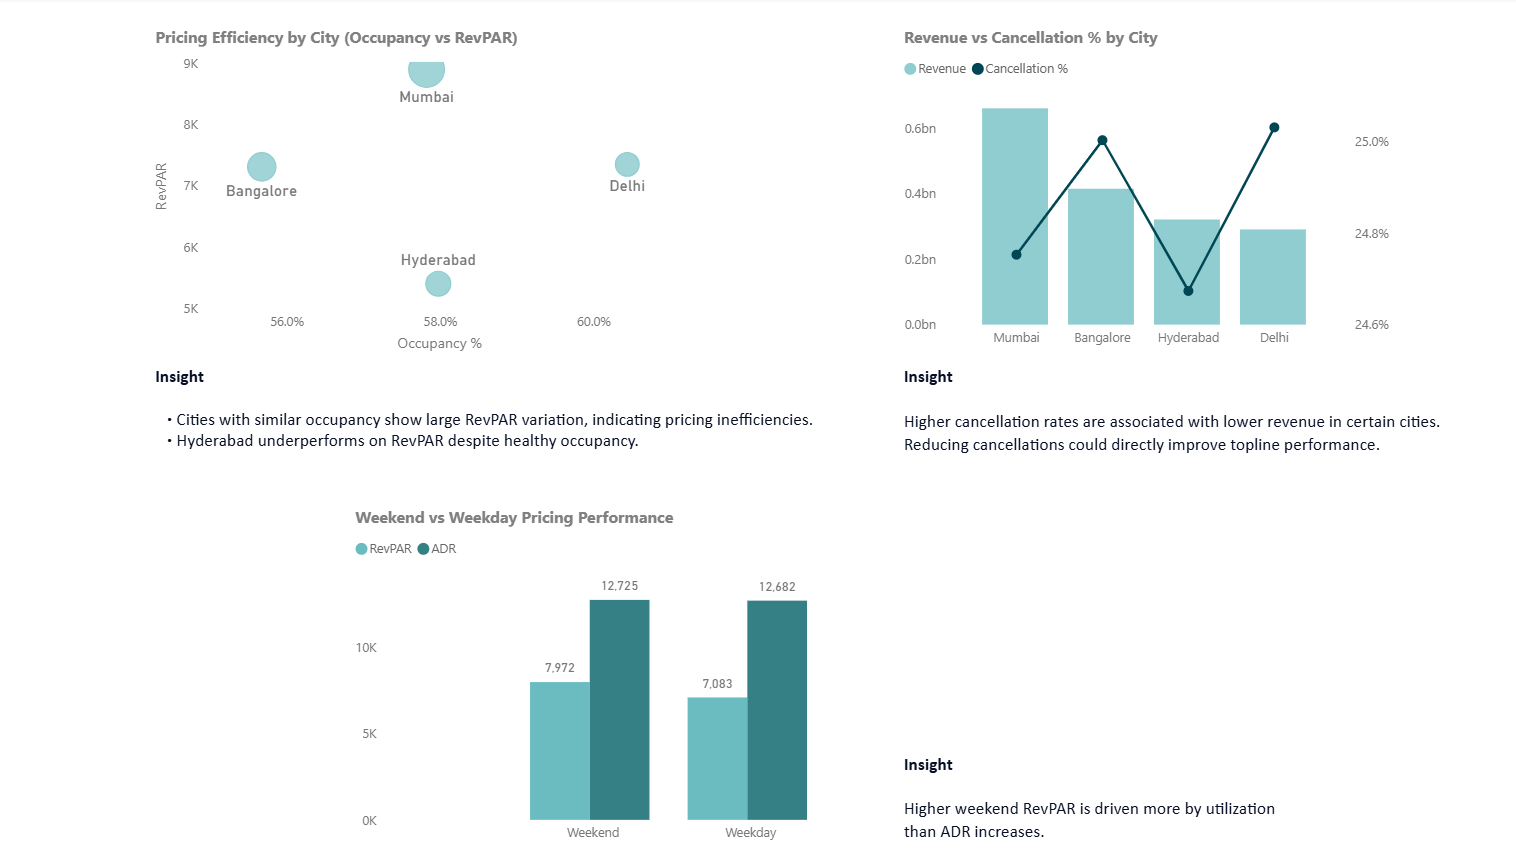

What the dashboard file says about the page in this screenshot:
{"tool":"powerbi","page":{"name":"Independent Business Insights","canvas":[1280,720],"ordinal":1},"visuals":[{"type":"scatterChart","title":"Pricing Efficiency by City (Occupancy vs RevPAR)","fields":{"X":["key_measures.Occupancy %"],"Y":["key_measures.RevPAR"],"Size":["key_measures.Revenue"],"Category":["dim_hotels.city"]},"box":[126.7,24.4,458.1,279.1],"z":0},{"type":"lineClusteredColumnComboChart","title":"Revenue vs Cancellation % by City","fields":{"Category":["dim_hotels.city"],"Y":["key_measures.Revenue"],"Y2":["key_measures.Cancellation %"]},"box":[757,24.4,418.6,279.1],"z":1000},{"type":"clusteredColumnChart","title":"Weekend vs Weekday Pricing Performance","fields":{"Category":["dim_date.day type"],"Y":["key_measures.RevPAR","key_measures.ADR"]},"box":[295.3,427.9,515.1,291.9],"z":2000},{"type":"textbox","box":[126.7,303.5,565.1,90.7],"z":3000},{"type":"textbox","box":[757,303.5,466.3,90.7],"z":4000},{"type":"textbox","box":[757,630.2,336,89.5],"z":5000}]}

Visuals, with their boxes in screenshot pixels (x1, y1, x2, y2), scaled from the page's 1280x720 canvas onto the 1516x850 screenshot:
"Pricing Efficiency by City (Occupancy vs RevPAR)" scatterChart: bbox=[150, 29, 693, 358]
"Revenue vs Cancellation % by City" lineClusteredColumnComboChart: bbox=[897, 29, 1392, 358]
"Weekend vs Weekday Pricing Performance" clusteredColumnChart: bbox=[350, 505, 960, 849]
textbox: bbox=[150, 358, 819, 465]
textbox: bbox=[897, 358, 1449, 465]
textbox: bbox=[897, 744, 1295, 849]
